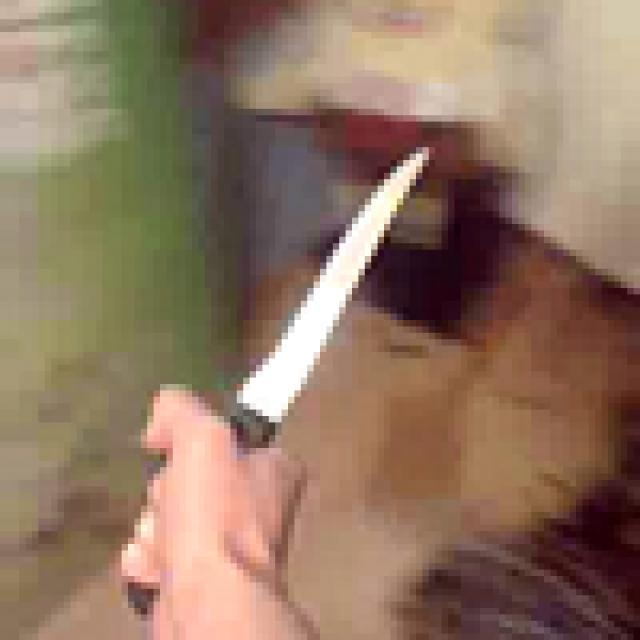Knife: (109, 109, 461, 608)
